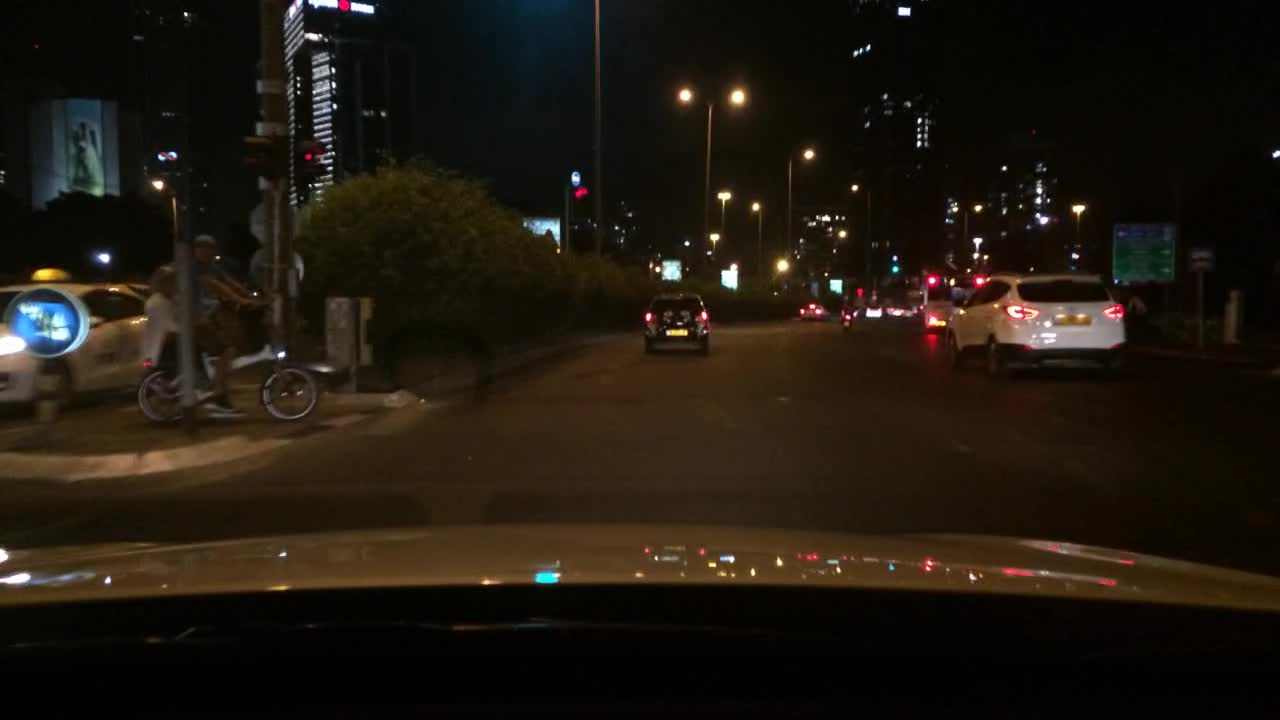bike: (134, 297, 316, 423), (839, 306, 854, 327)
car: (0, 282, 192, 419), (942, 274, 1130, 383), (640, 290, 709, 355), (919, 275, 975, 331), (797, 301, 830, 322), (885, 303, 914, 318), (862, 301, 881, 319)
rider: (183, 230, 271, 419), (139, 258, 234, 413), (837, 292, 857, 322)
traffic light: (300, 141, 313, 170)
traffic sign: (1112, 222, 1175, 282), (245, 194, 300, 243), (246, 246, 302, 293), (1183, 247, 1210, 268), (656, 257, 678, 280), (255, 121, 285, 137), (256, 76, 283, 92), (720, 268, 733, 288), (568, 171, 581, 183)
